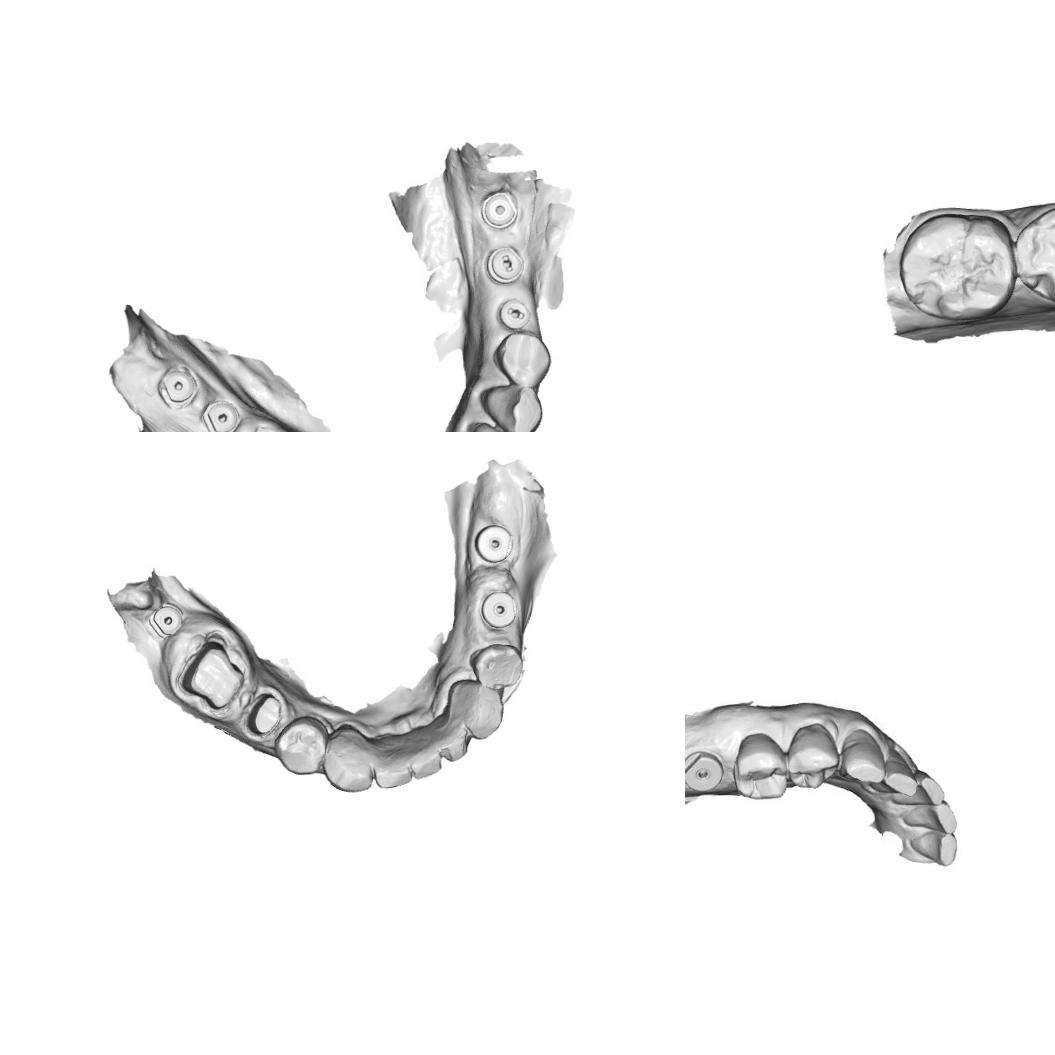canine: (448, 678, 506, 742), (272, 714, 330, 777), (478, 382, 546, 432), (836, 728, 886, 789)
crown: (176, 634, 247, 717), (243, 688, 287, 740)
implant: (152, 362, 202, 408), (476, 188, 522, 232), (685, 747, 725, 794), (472, 522, 516, 564), (478, 588, 520, 630), (147, 601, 185, 639), (201, 400, 244, 432)
implant_minus: (482, 248, 528, 287), (494, 294, 532, 332)
incisor: (321, 722, 374, 794), (373, 733, 414, 790), (402, 726, 443, 780), (880, 747, 920, 800), (908, 828, 958, 868), (432, 714, 473, 762), (905, 800, 959, 835), (910, 766, 946, 806), (470, 421, 523, 432)
molar: (900, 213, 1018, 324), (1012, 204, 1055, 311)
premolar: (732, 730, 789, 801), (784, 722, 841, 792), (488, 332, 554, 388), (468, 641, 524, 692)
